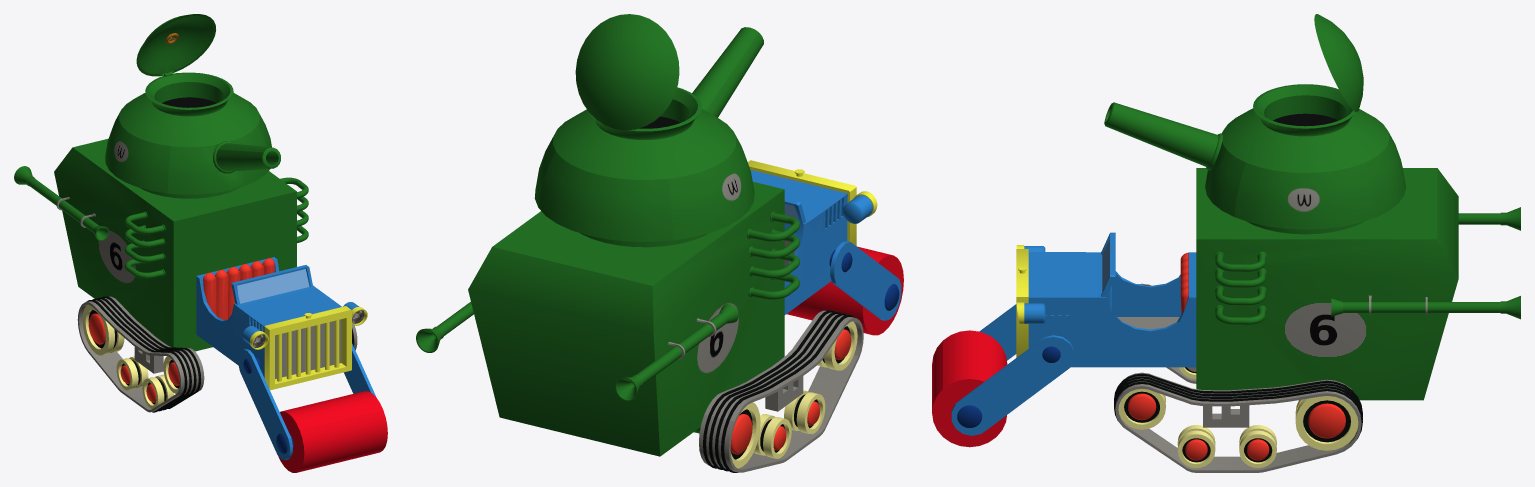
File: TheArmySurplus.fbx
3 renders of one model, left to right at view 1: azimuth 30°, elevation 25°; view 2: azimuth 150°, elevation 25°; view 3: azimuth 270°, elevation 25°, orthographic. The views are drawn at different scales.
Parts seen in each view (by area): view 1: Caisse, Tourelle, Cabine, Rouleau, Chenilles, Roulements, Dossier, RAC, Phares; view 2: Caisse, Tourelle, Chenilles, Cabine, Rouleau, Roulements, RAC, Phares; view 3: Caisse, Tourelle, Cabine, Rouleau, Roulements, Chenilles, RAC, Phares.
Part boxes in pixels (x1,y1,x2,y2): Caisse: (54, 138, 308, 351); Tourelle: (105, 14, 280, 198); Cabine: (196, 257, 351, 390); Rouleau: (238, 343, 387, 472); Chenilles: (77, 296, 357, 412); Roulements: (82, 304, 179, 408); Dossier: (203, 258, 274, 320); RAC: (14, 166, 108, 240); Phares: (242, 302, 367, 349); Caisse: (468, 181, 799, 456); Tourelle: (534, 14, 763, 247); Chenilles: (699, 310, 863, 472); Cabine: (748, 160, 856, 314); Rouleau: (786, 241, 903, 335); Roulements: (730, 321, 857, 468); RAC: (416, 302, 738, 401); Phares: (843, 191, 877, 223); Caisse: (1196, 168, 1458, 400); Tourelle: (1104, 14, 1405, 234); Cabine: (1016, 232, 1196, 367); Rouleau: (932, 304, 1074, 447); Roulements: (1118, 367, 1358, 467); Chenilles: (1114, 283, 1362, 472); RAC: (1331, 207, 1520, 319); Phares: (1016, 245, 1045, 324).
Size of the model in its own units: 1.51 by 2.77 by 3.66.
